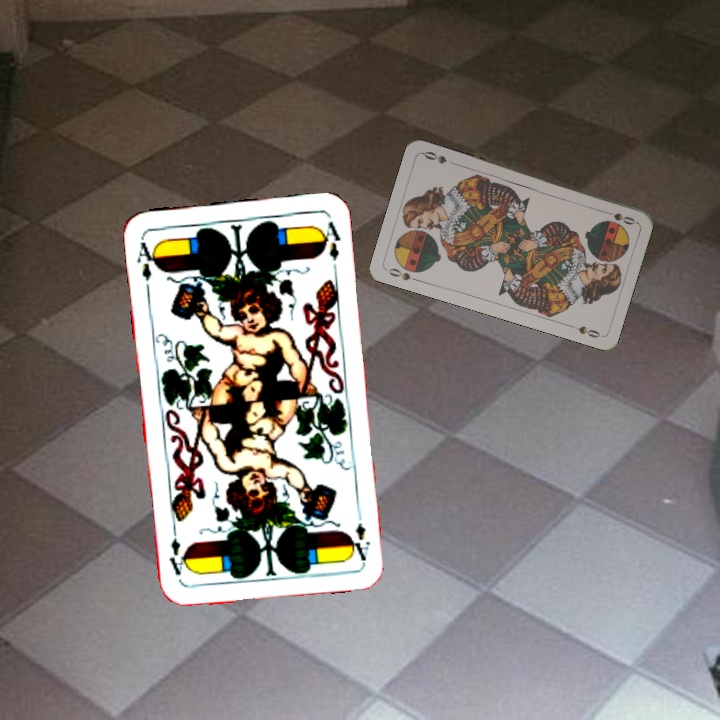EA: (346, 505, 372, 564), (132, 234, 160, 284)
SO: (598, 207, 638, 227), (384, 264, 423, 284)
